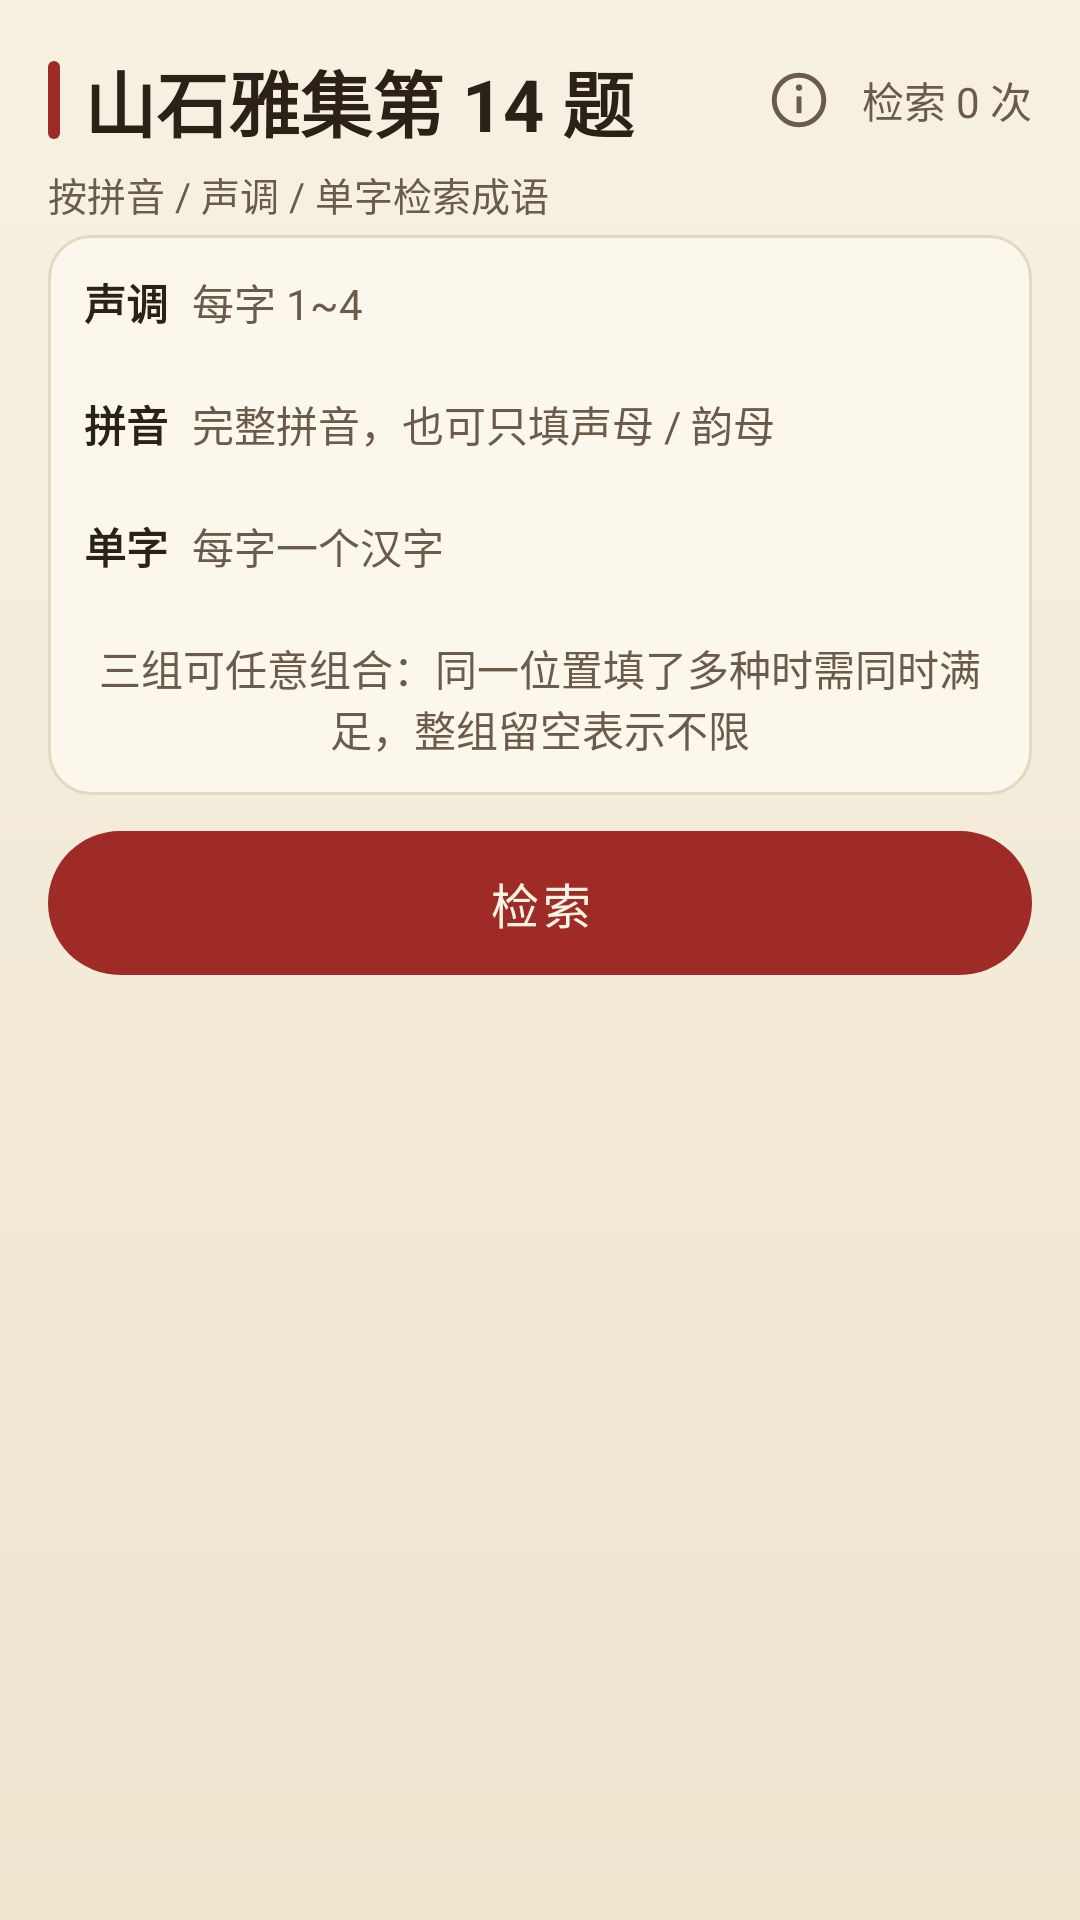

Where icons sit on this 1080px x 1920px app screen, as bbox(x1, y1, x2, y2):
信息: bbox(771, 72, 827, 128)
